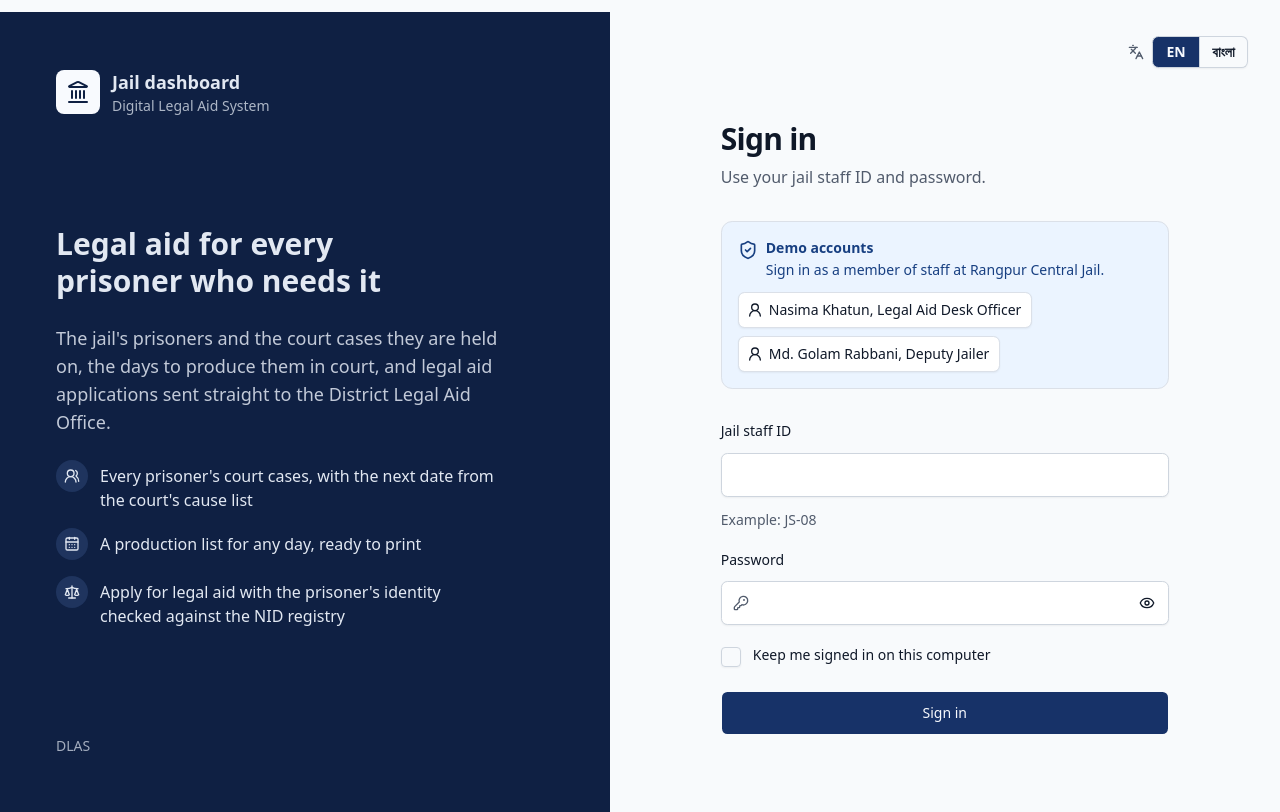
Scenario: signing in › offers the demo accounts and refuses an ID that is not on the roster
This screenshot has width=1280, height=812.
Type "JS-99" into the field labelled "Jail staff ID" at (945,474), box [721,452,1169,496]
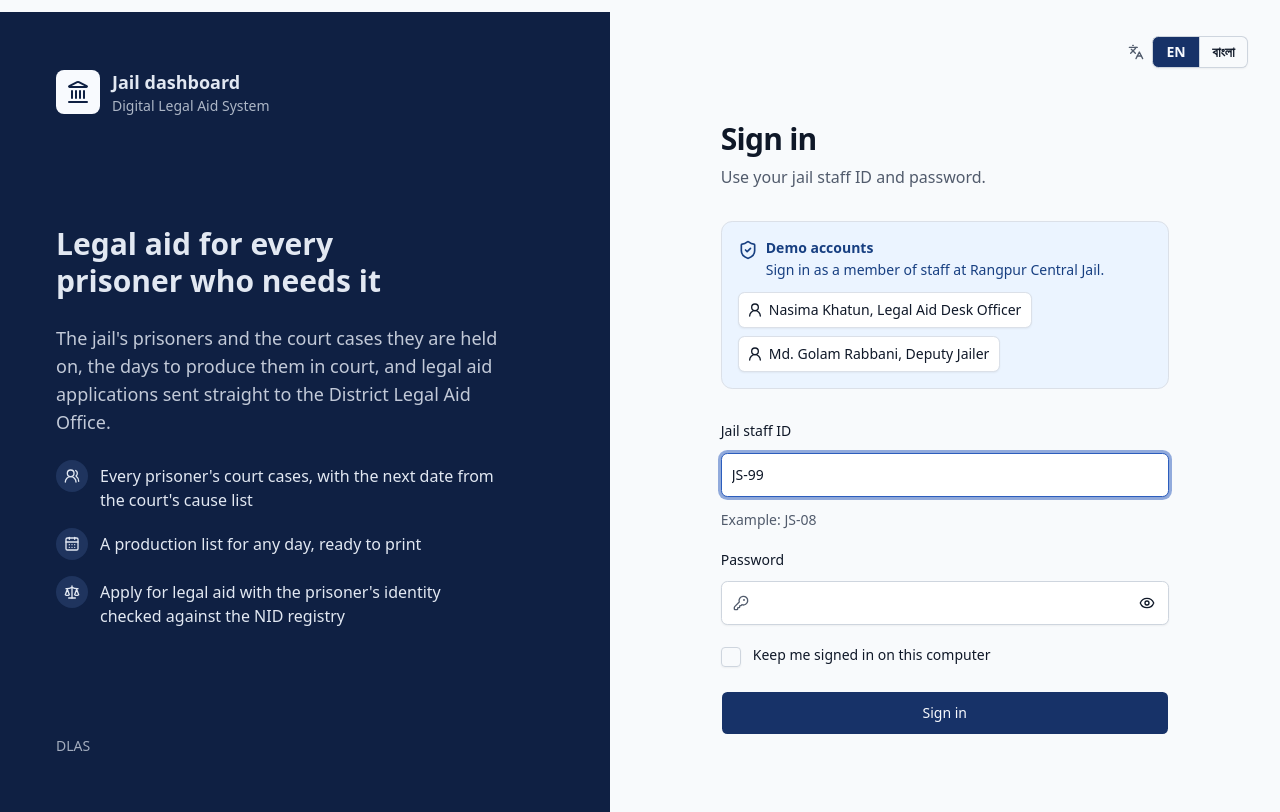
Type "demo1234" into the password field labelled "Password" at (945,603), box [721,581,1169,625]
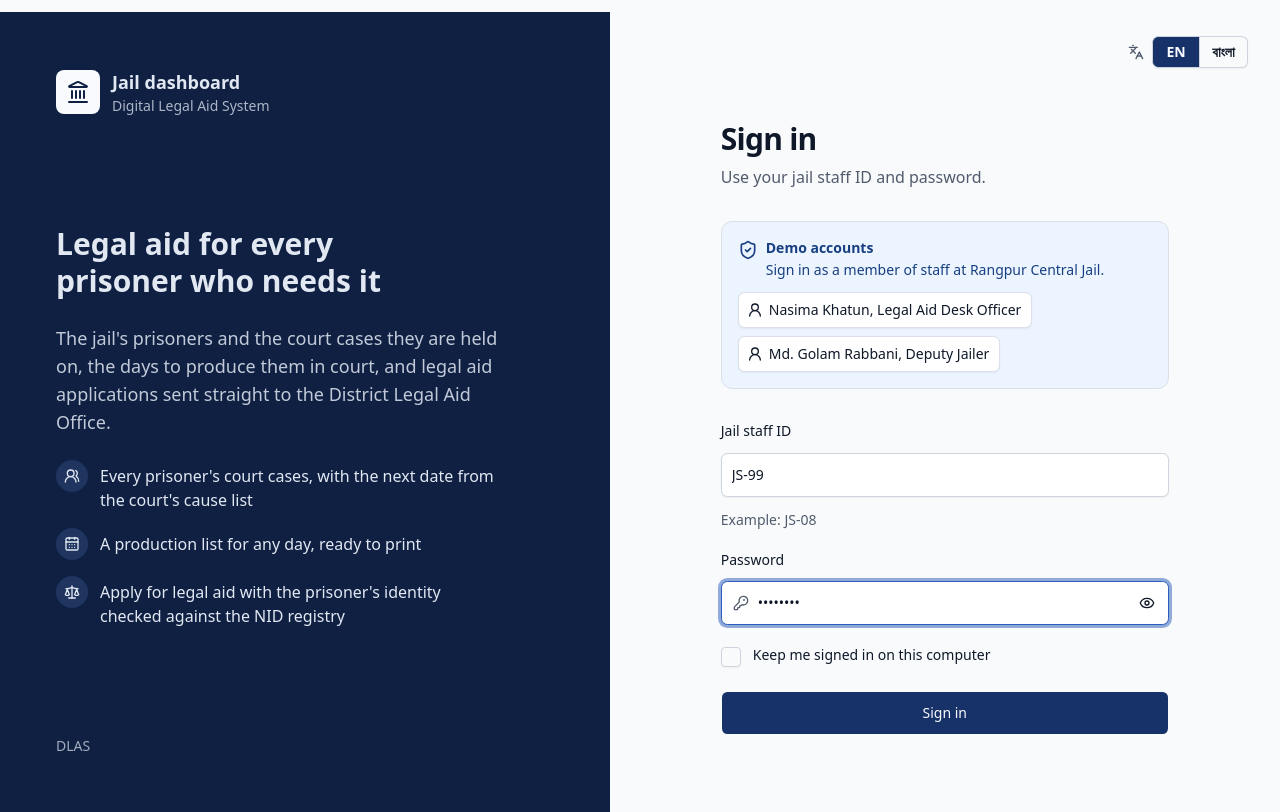
Click the button "Sign in" at (945,713), box [721,691,1169,735]
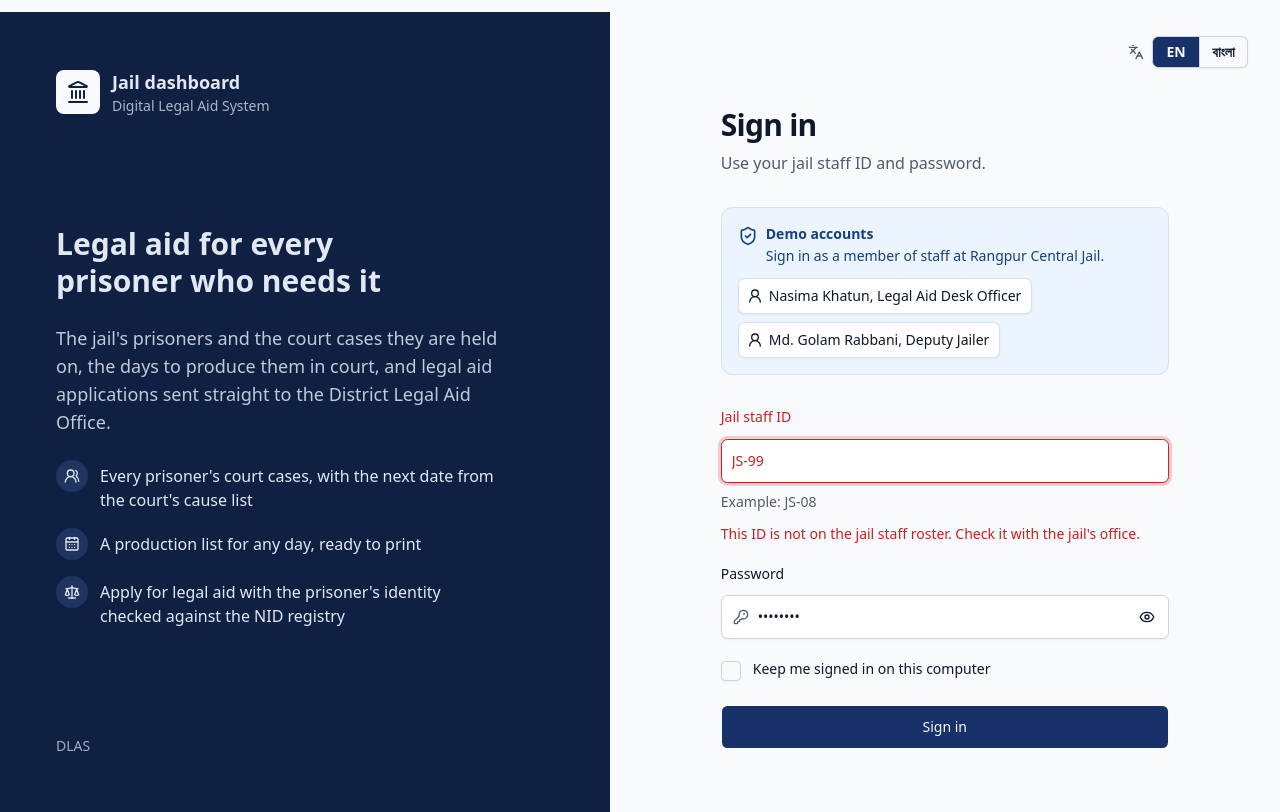
Result: the text "This ID is not on the jail staff roster. Check it with the jail's office." is shown at [721,524,1169,544]
Click the button "Nasima Khatun, Legal Aid Desk Officer" at (885,296), box [738,278,1032,314]
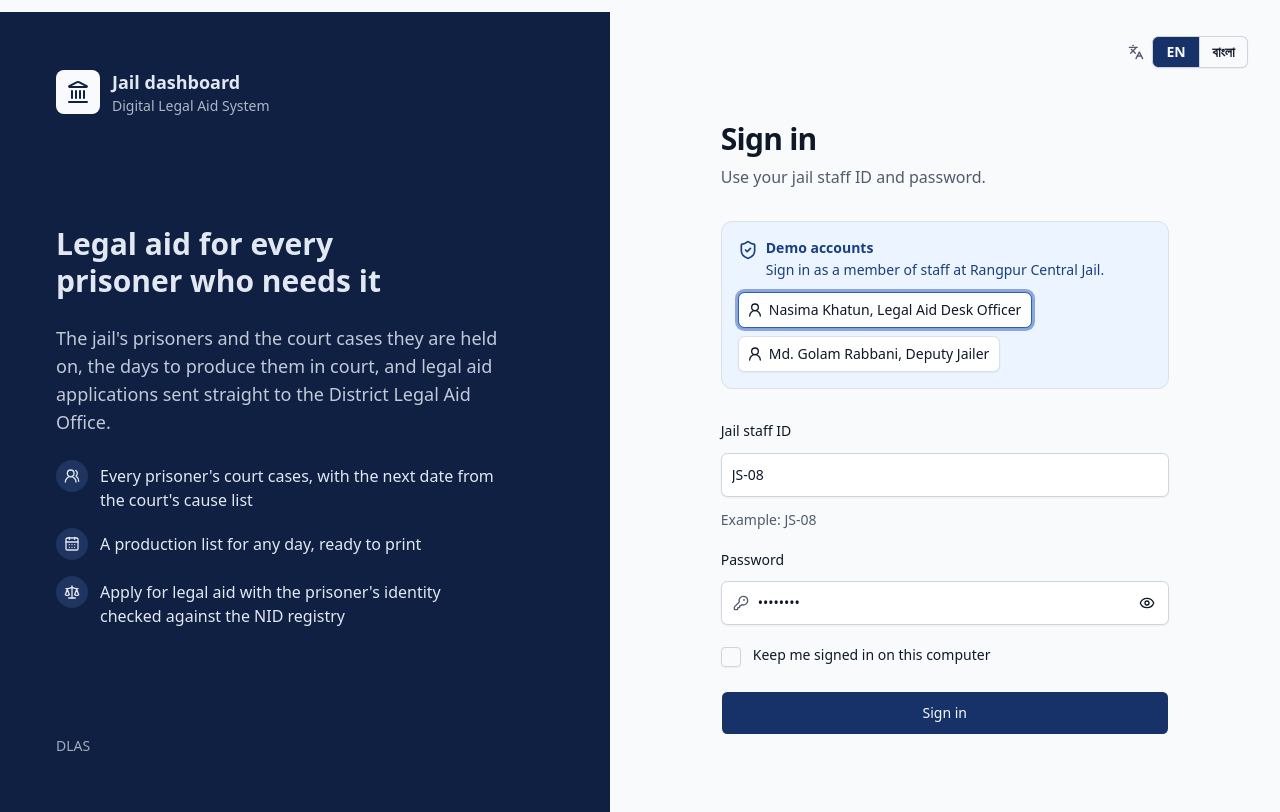
Click the button "Sign in" at (945,713), box [721,691,1169,735]
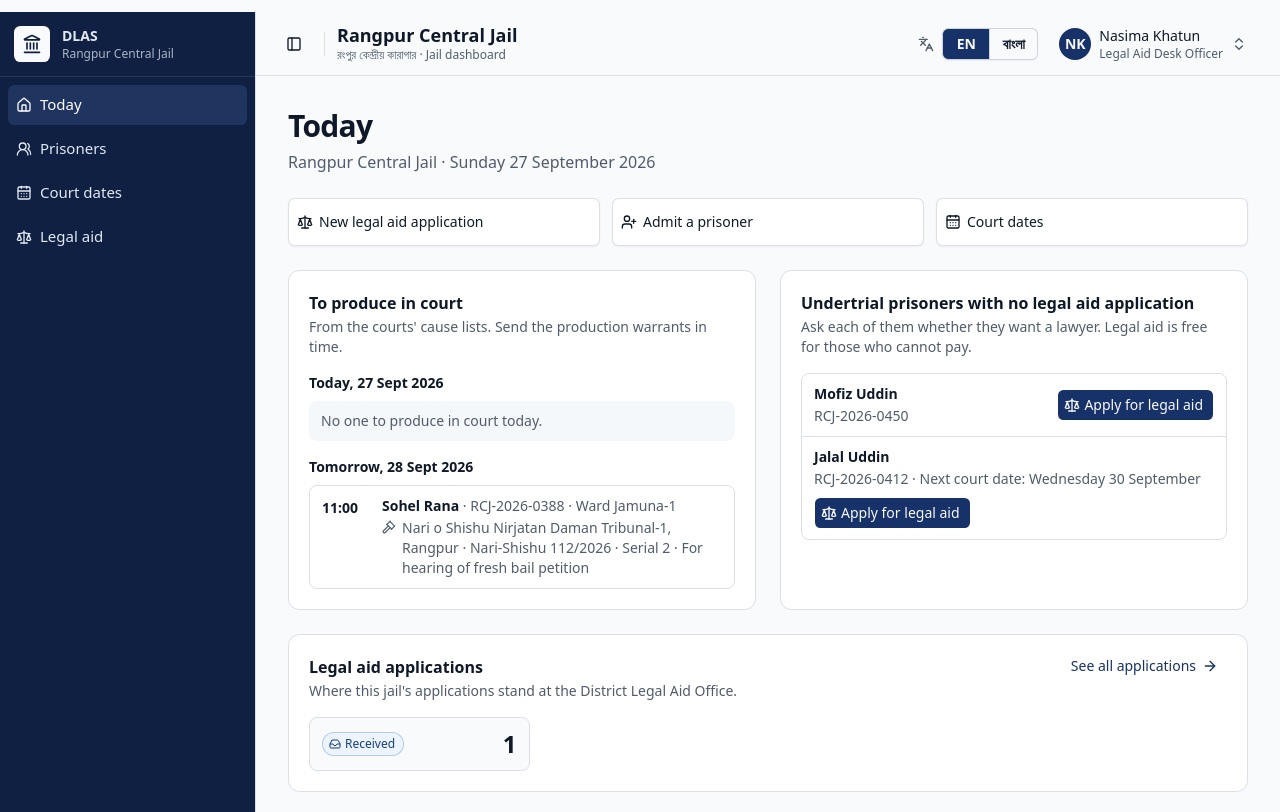
Result: the heading "Today" is shown at [288,105,372,146]
Result: the text "Rangpur Central Jail" below "DLAS" is shown at [62,45,174,62]
